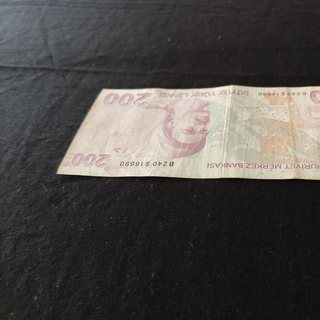200TLBack: (55, 82, 320, 183)
